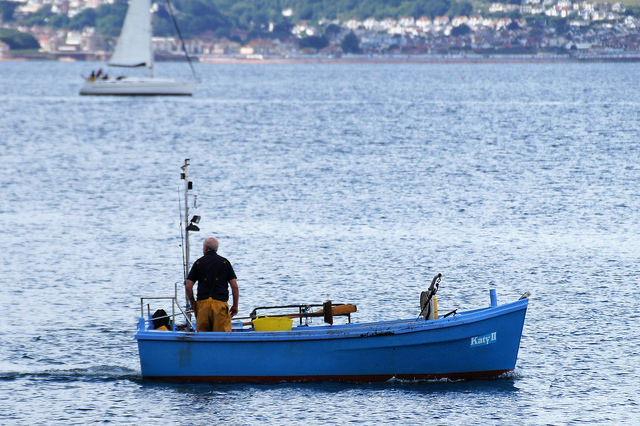boat: (74, 4, 206, 98)
fishing_boat: (134, 152, 532, 379)
person: (183, 230, 239, 333)
